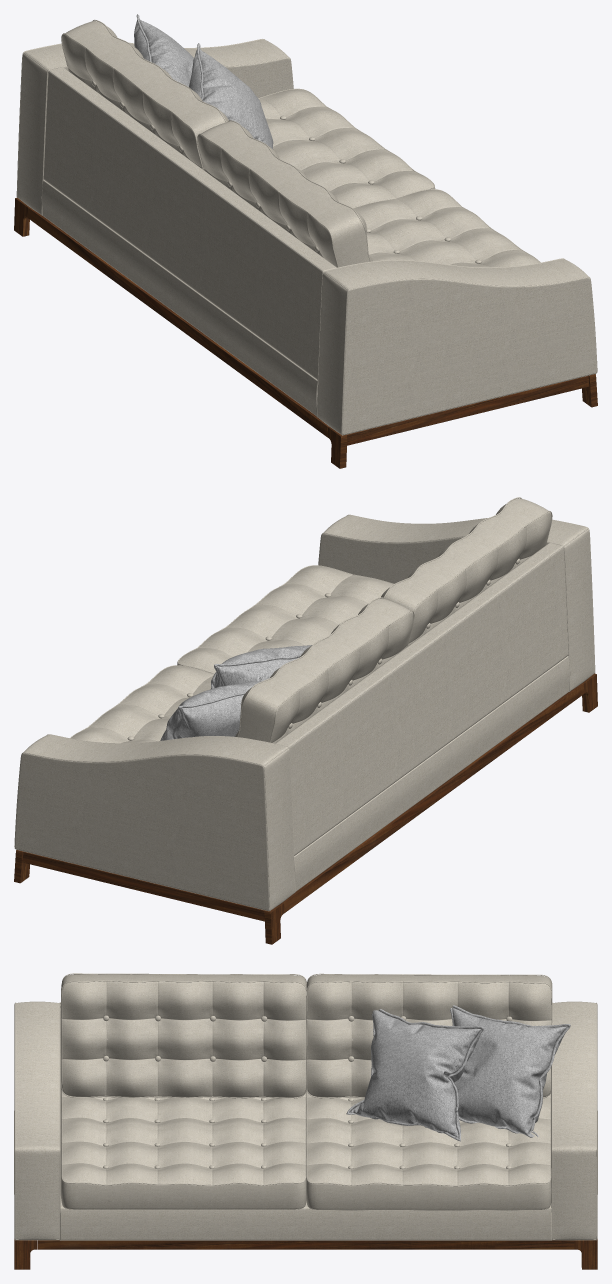
File: sofa_-_long_sofa.glb
3 renders of one model, top to bottom at view 1: azimuth 30°, elevation 25°; view 2: azimuth 150°, elevation 25°; view 3: azimuth 270°, elevation 25°, orthographic. The views are drawn at different scales.
Parts seen in each view (by area): view 1: Sofa Medea Bond Divano Art5536E N291220_0; view 2: Sofa Medea Bond Divano Art5536E N291220_0; view 3: Sofa Medea Bond Divano Art5536E N291220_0.
Part boxes in pixels (x1,y1,x2,y2): Sofa Medea Bond Divano Art5536E N291220_0: (14,14,597,468); Sofa Medea Bond Divano Art5536E N291220_0: (14,497,597,944); Sofa Medea Bond Divano Art5536E N291220_0: (14,973,597,1269).
Bounding box in the file's own units: 3.47 × 2.77 × 7.43.
3 materials, 3 textured.
